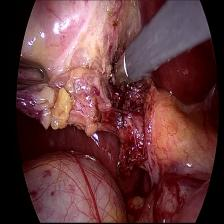Grasper: (16, 52, 51, 96)
Scissors: (104, 47, 134, 94)
